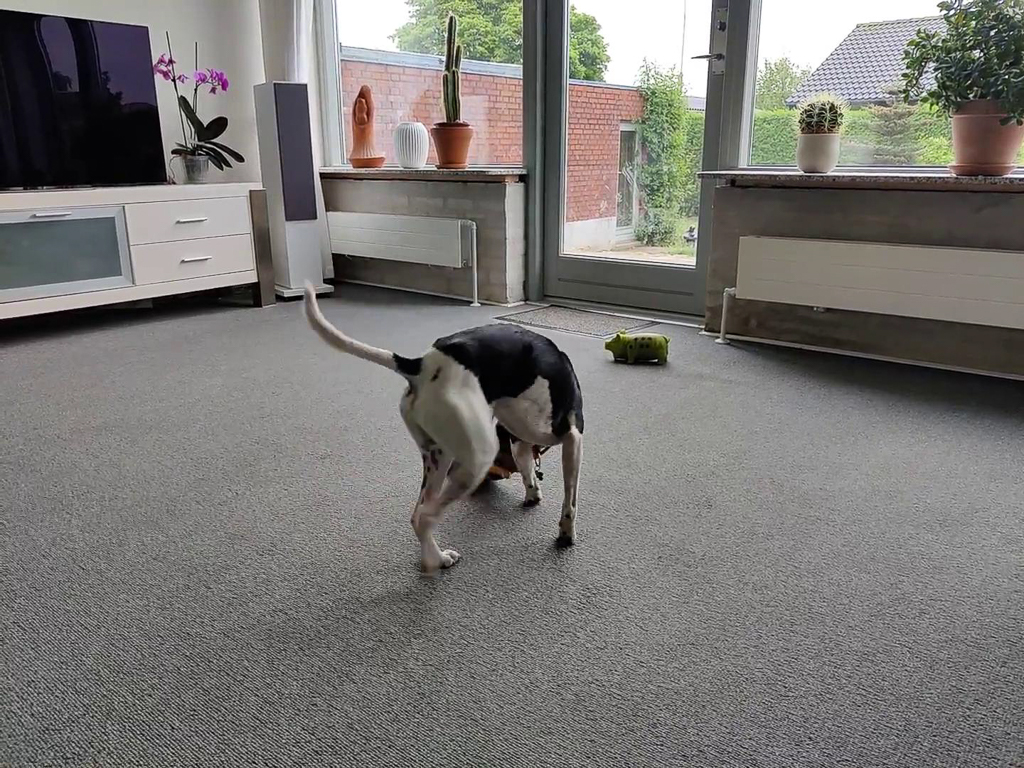Dog: (289, 273, 607, 586)
Humanoid: (344, 82, 388, 162)
